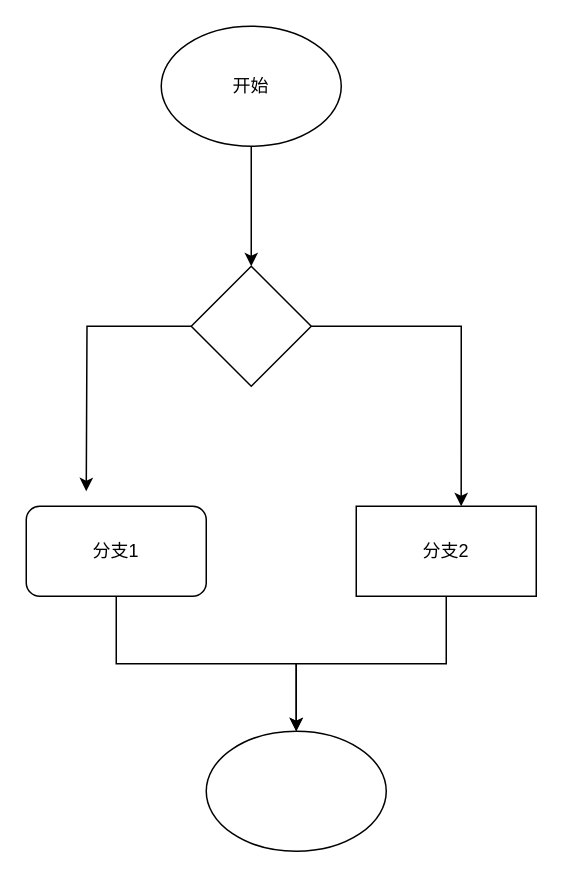
The diagram is 563 pixels wide and 878 high, and some of its shapes have lost their labels. The box of each missing label's shape, as (x1, y1, x2, y2) in pixels:
判断: (190, 265, 311, 386)
结束: (205, 730, 386, 851)
